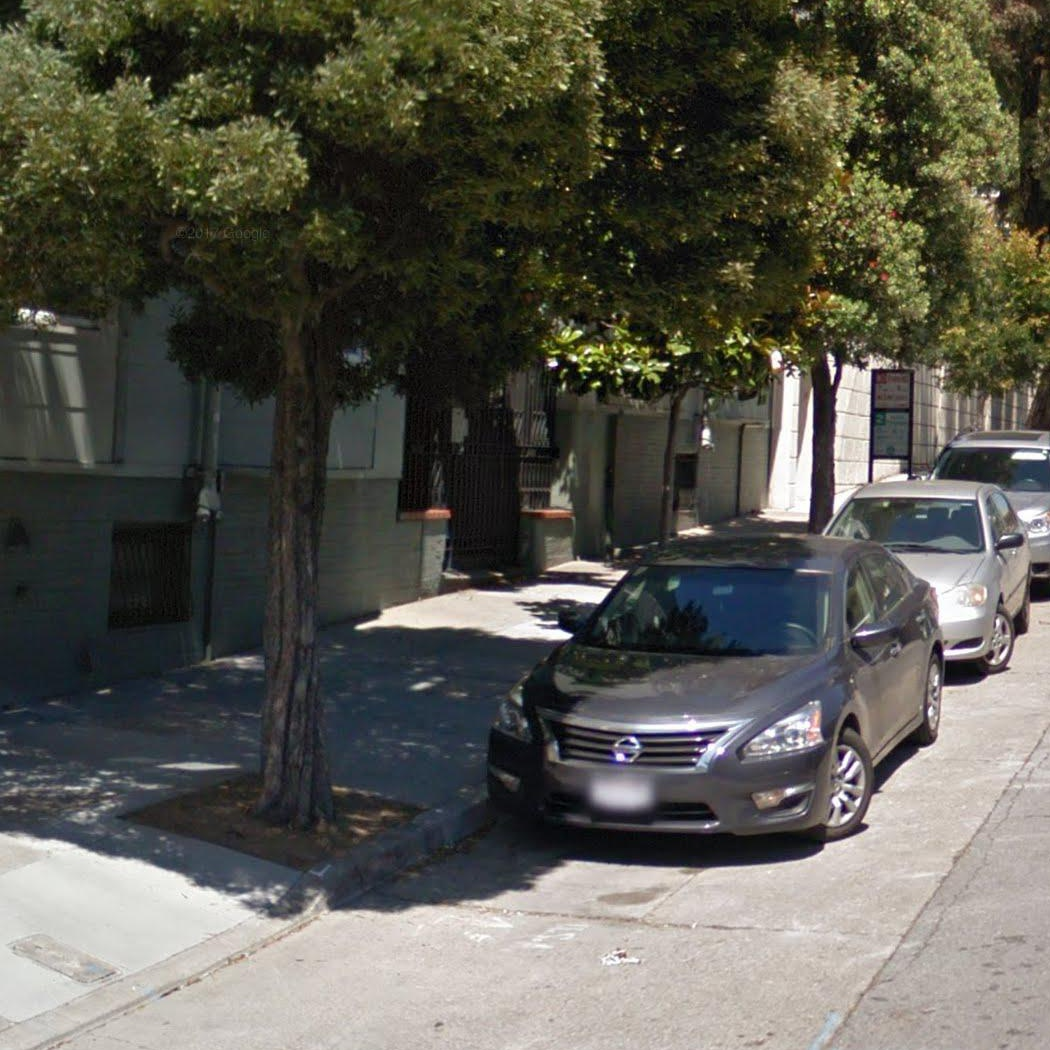2 Hour Parking: (870, 410, 911, 458)
No Parking: (872, 368, 912, 410)
